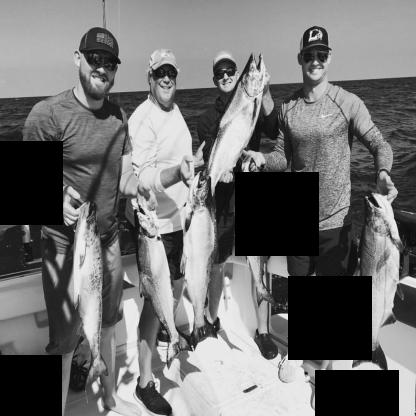fish: (352, 193, 406, 373), (134, 202, 192, 366), (204, 52, 266, 201), (71, 200, 109, 396), (233, 156, 276, 308), (180, 172, 216, 352)
